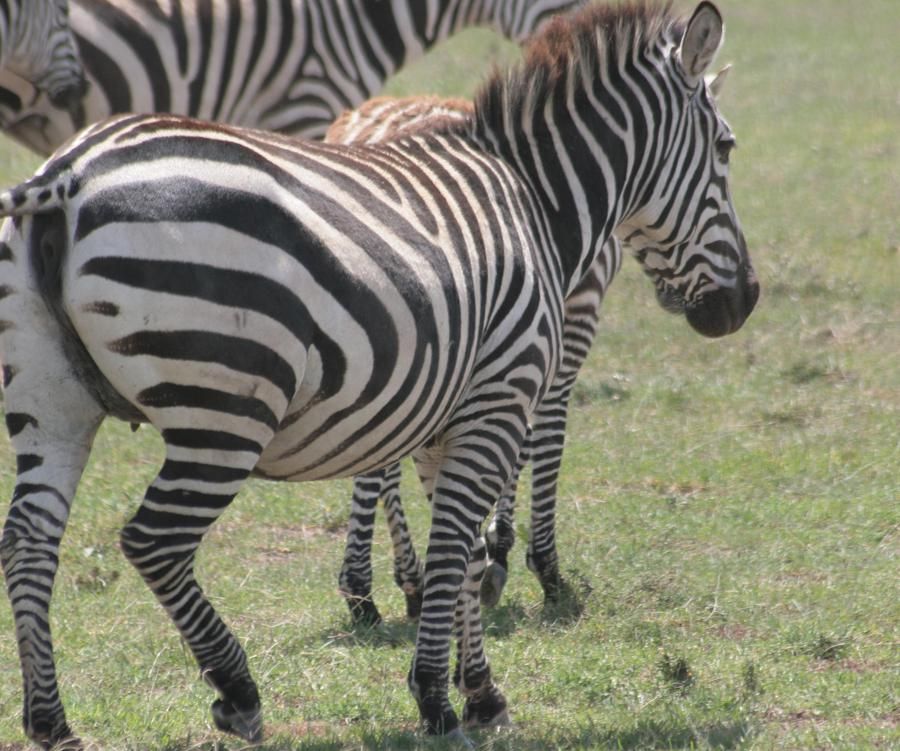zebra_plains: (150, 131, 545, 482)
